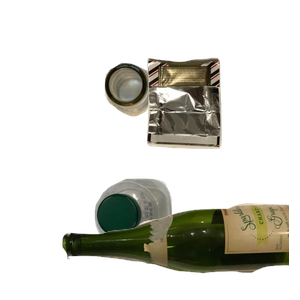glass: (60, 201, 300, 300)
metal: (102, 60, 252, 169)
plastic: (92, 176, 257, 300)
trash: (144, 55, 300, 197)
